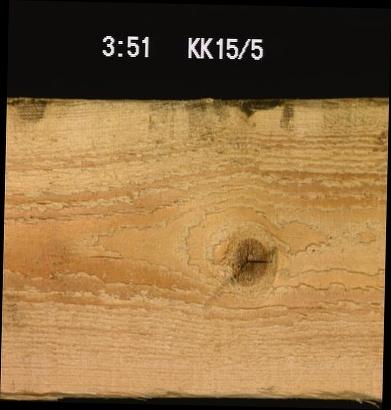sound_knot: (227, 233, 269, 288)
split: (84, 248, 130, 263)
wave: (0, 384, 202, 401), (217, 378, 381, 398)
